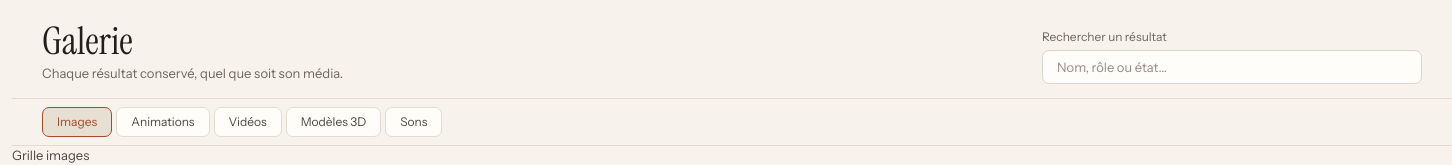
Test: la galerie donne une recherche unique et sépare les vidéos
(page scrolled)
Check: the heading "Galerie" is shown, box 42,16 -> 133,66
Check: the text "Grille images" is shown, box 12,146 -> 89,162
Click the button "Vidéos" at (248, 122), box 214,106 -> 282,136
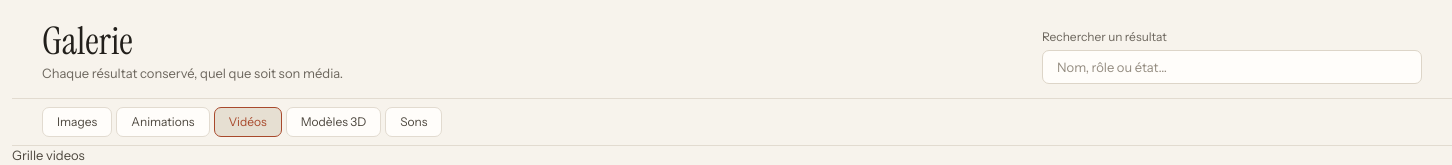
Check: the text "Grille videos" is shown, box 12,146 -> 85,162
